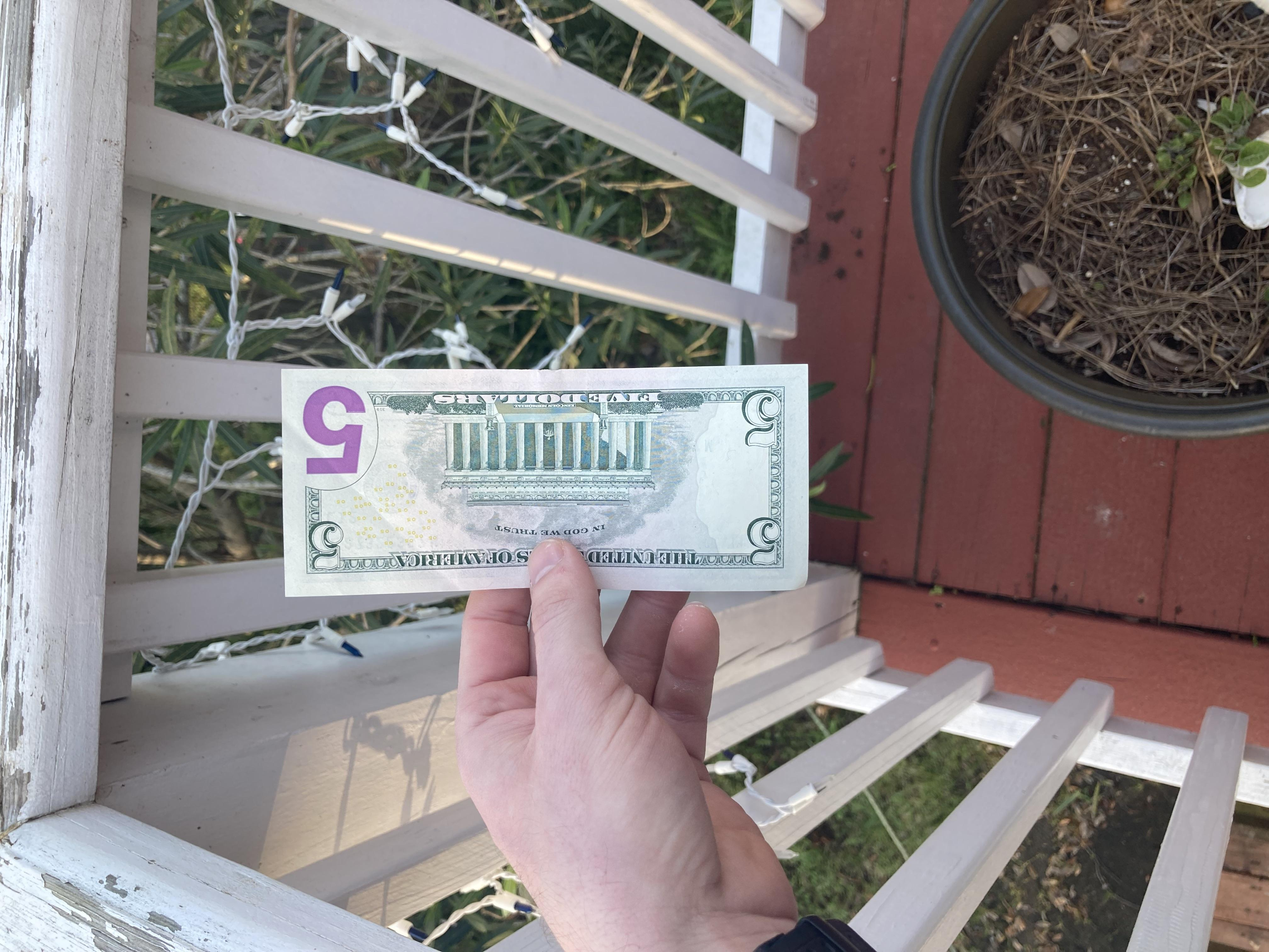five-back: (479, 213, 782, 606)
